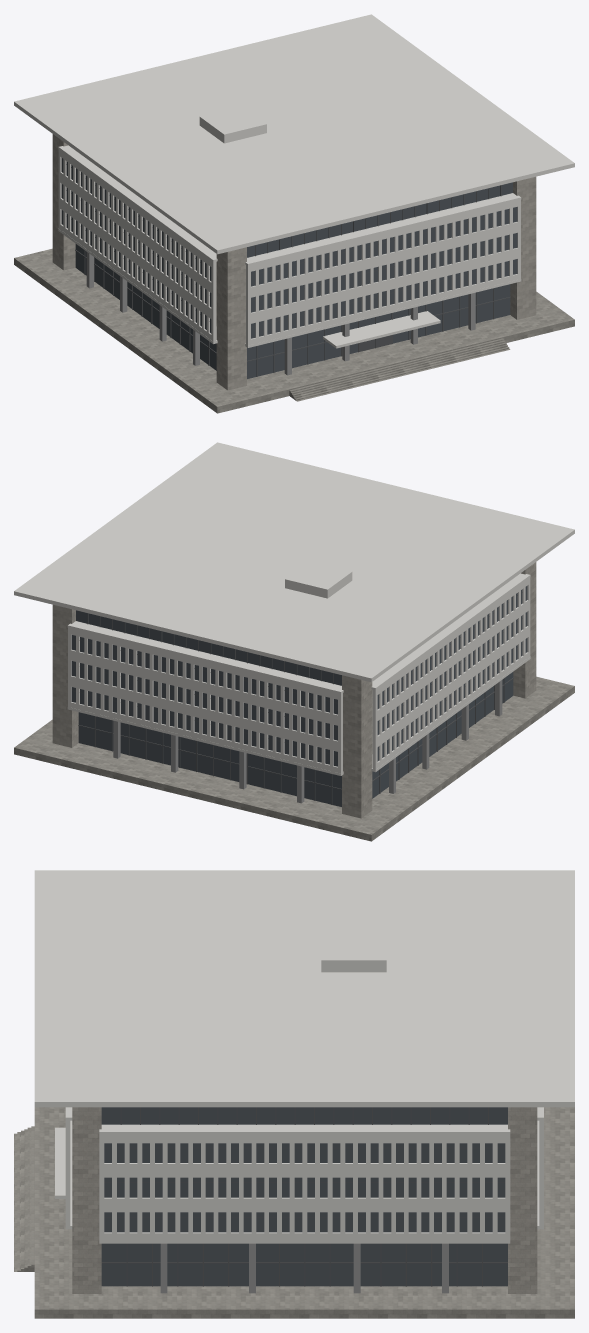
The picture shows the model from 3 angles, top to bottom: view 1: azimuth 30°, elevation 25°; view 2: azimuth 150°, elevation 25°; view 3: azimuth 270°, elevation 25°; orthographic projection. The views are drawn at different scales.
Parts seen in each view (by area): view 1: library__white, library__glass, library__base, library__granite, library__frame, library__column; view 2: library__white, library__glass, library__base, library__granite, library__frame, library__column; view 3: library__white, library__glass, library__base, library__granite, library__frame, library__column.
Boxes of the visible parts, bbox=[...] form: library__white: bbox=[14, 14, 574, 348]; library__glass: bbox=[61, 158, 517, 378]; library__base: bbox=[14, 248, 574, 413]; library__granite: bbox=[52, 134, 536, 390]; library__frame: bbox=[62, 161, 516, 376]; library__column: bbox=[86, 252, 475, 375]; library__white: bbox=[14, 442, 574, 775]; library__glass: bbox=[71, 586, 527, 806]; library__base: bbox=[14, 676, 574, 841]; library__granite: bbox=[52, 562, 536, 818]; library__frame: bbox=[72, 589, 526, 804]; library__column: bbox=[113, 680, 502, 803]; library__white: bbox=[34, 870, 574, 1243]; library__glass: bbox=[101, 1107, 507, 1286]; library__base: bbox=[14, 1107, 574, 1318]; library__granite: bbox=[72, 1107, 537, 1293]; library__frame: bbox=[101, 1107, 507, 1286]; library__column: bbox=[160, 1243, 448, 1293].
Size of the model in its own units: 66.98 by 30.8 by 68.52.
Materials: 7 (2 with a texture image).
